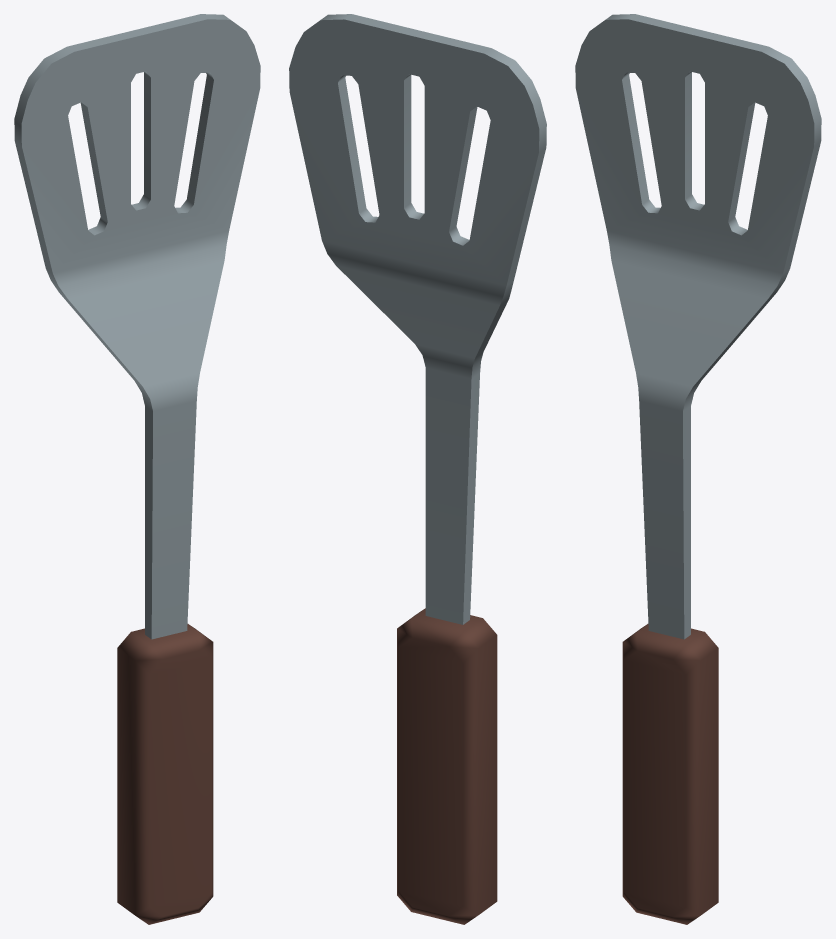
The model's file is SM_spatula_001.obj.
3 views of the same model, side by side, from view 1: azimuth 30°, elevation 25°; view 2: azimuth 150°, elevation 25°; view 3: azimuth 330°, elevation 25° (orthographic). The views are drawn at different scales.
Visible parts, largest first — view 1: SM_spatula_001_M_Material; view 2: SM_spatula_001_M_Material; view 3: SM_spatula_001_M_Material.
Part boxes in pixels (x1,y1,x2,y2): SM_spatula_001_M_Material: (14,14,260,924); SM_spatula_001_M_Material: (289,14,546,924); SM_spatula_001_M_Material: (575,14,821,924).
Size of the model in its own units: 0.2099 by 0.7204 by 0.0714.
